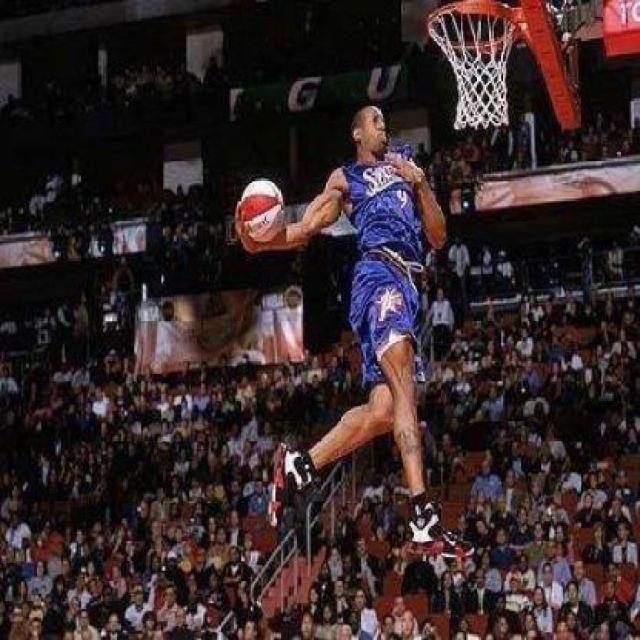basketball: (238, 178, 284, 242)
rim: (427, 1, 511, 131)
